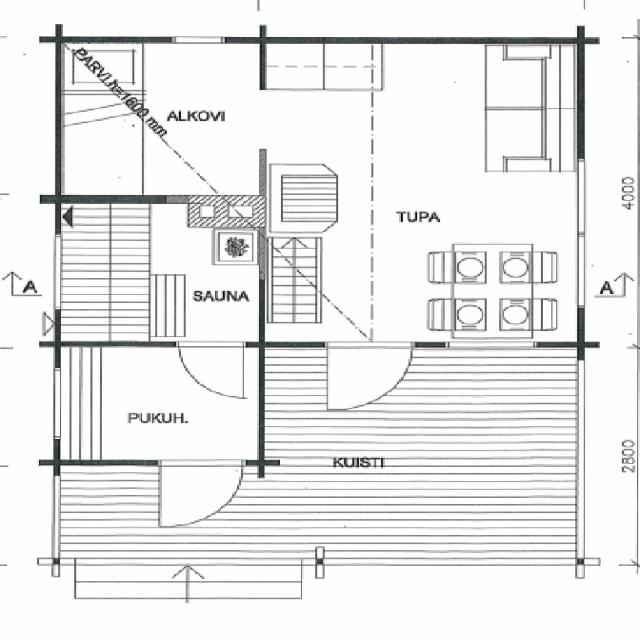door: (326, 342, 412, 415), (160, 460, 242, 531), (178, 342, 243, 399)
